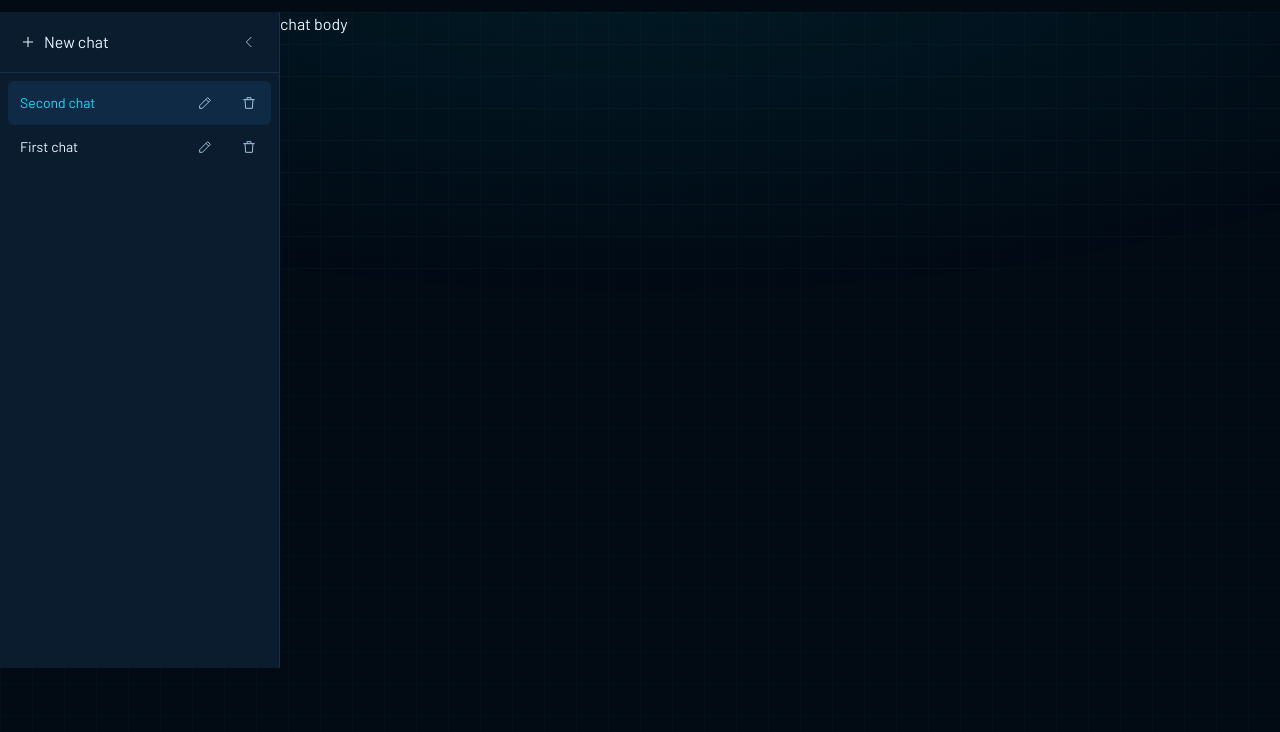
conversation panel (M2-7) › a delete blocked by an open approval shows the guard message
The width and height of the screenshot is (1280, 732).
Click the button named "Delete Second chat".
click(249, 103)  # box [227,81,271,125]
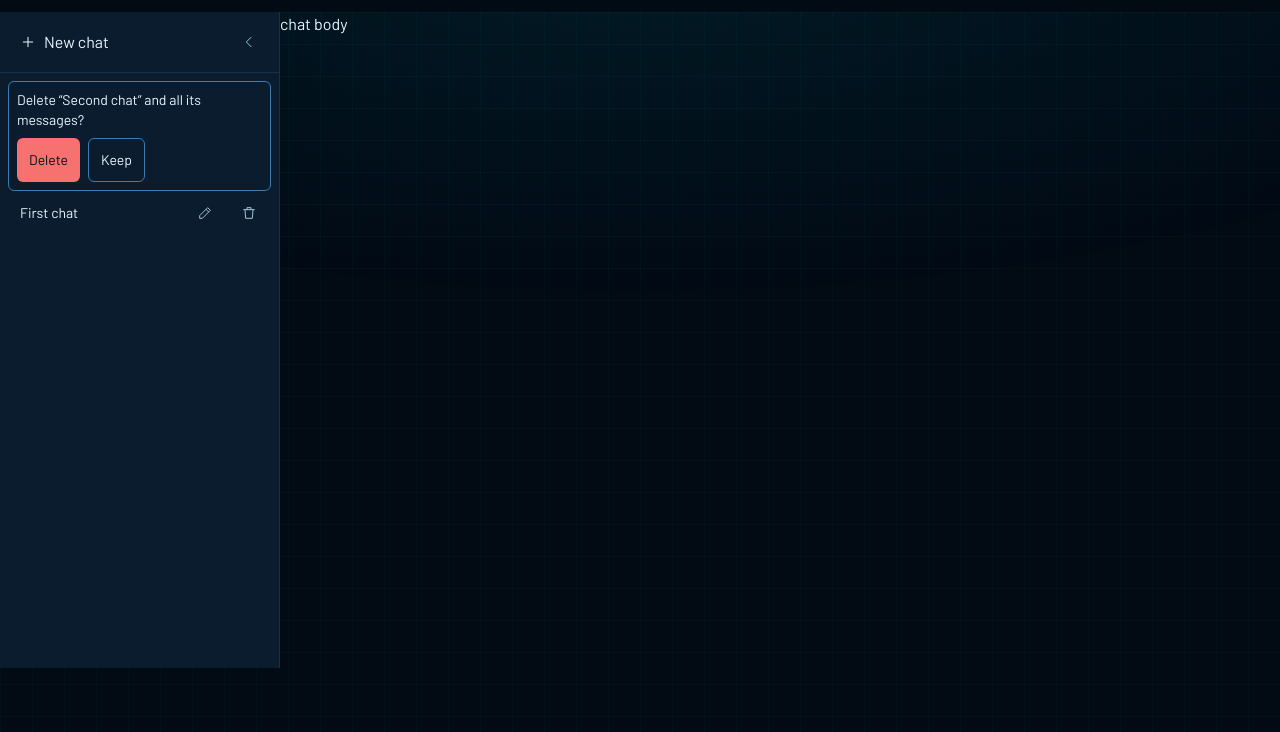
Click the button "Delete".
click(48, 160)  # box [17,138,80,182]
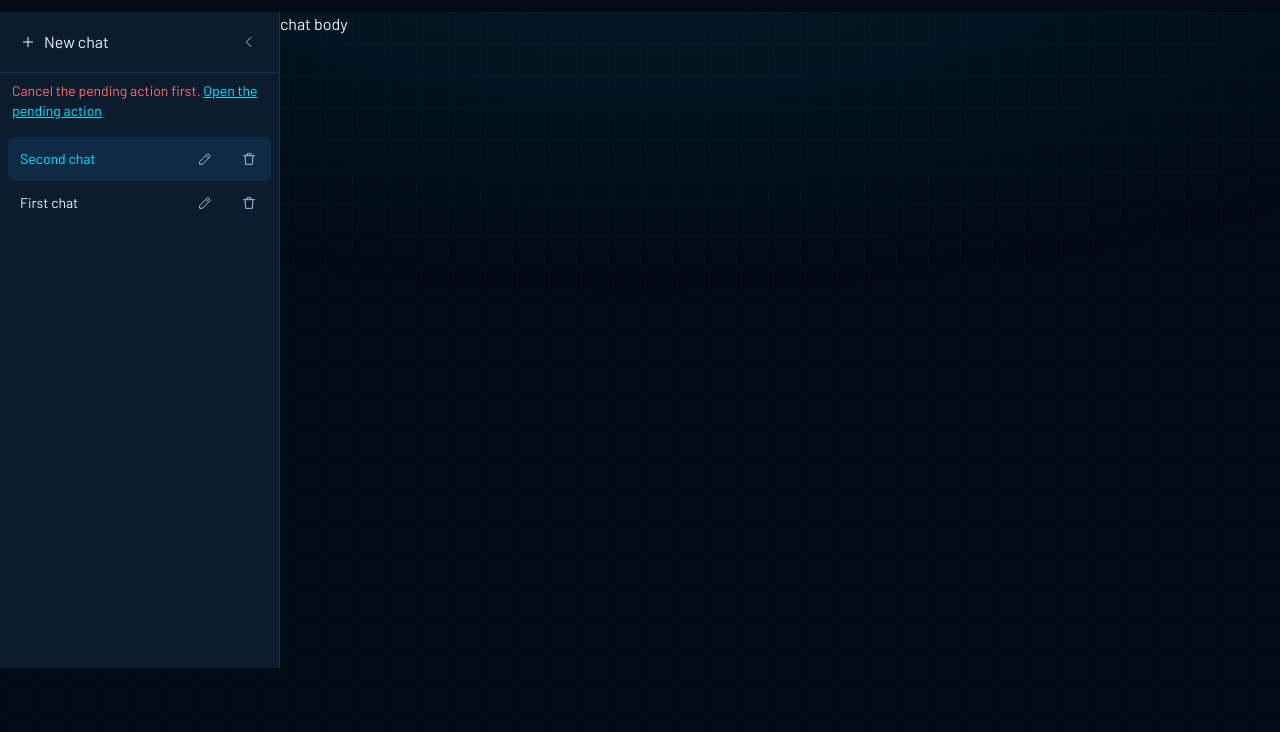
Expected: the text "Second chat" is shown, [20,149,95,169]
Expected: the message shows "Cancel the pending action first.", [12,82,200,99]
